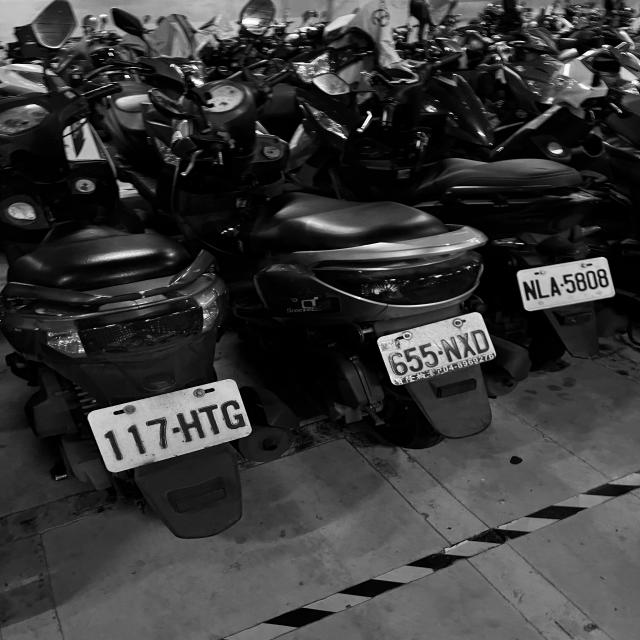-: (170, 425, 182, 435), (437, 349, 444, 356), (559, 282, 564, 288)
0: (584, 270, 600, 290)
1: (101, 428, 127, 463), (125, 422, 149, 456)
5: (416, 340, 440, 369), (402, 345, 426, 373), (562, 272, 577, 294)
6: (386, 349, 410, 378)
7: (143, 415, 170, 451)
8: (574, 271, 590, 292), (595, 267, 610, 289)
A: (547, 276, 563, 298)
D: (469, 328, 491, 354)
G: (219, 398, 248, 432)
H: (175, 408, 208, 444)
L: (534, 278, 550, 299)
N: (439, 336, 463, 363), (522, 279, 538, 302)
T: (196, 402, 226, 438)
X: (456, 332, 478, 359)
plate: (87, 385, 253, 468), (379, 312, 495, 379), (514, 258, 616, 310)
